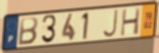1: (80, 11, 90, 41)
3: (41, 14, 58, 45)
4: (61, 12, 77, 43)
B: (17, 16, 40, 46)
H: (120, 7, 142, 38)
J: (101, 9, 119, 39)
